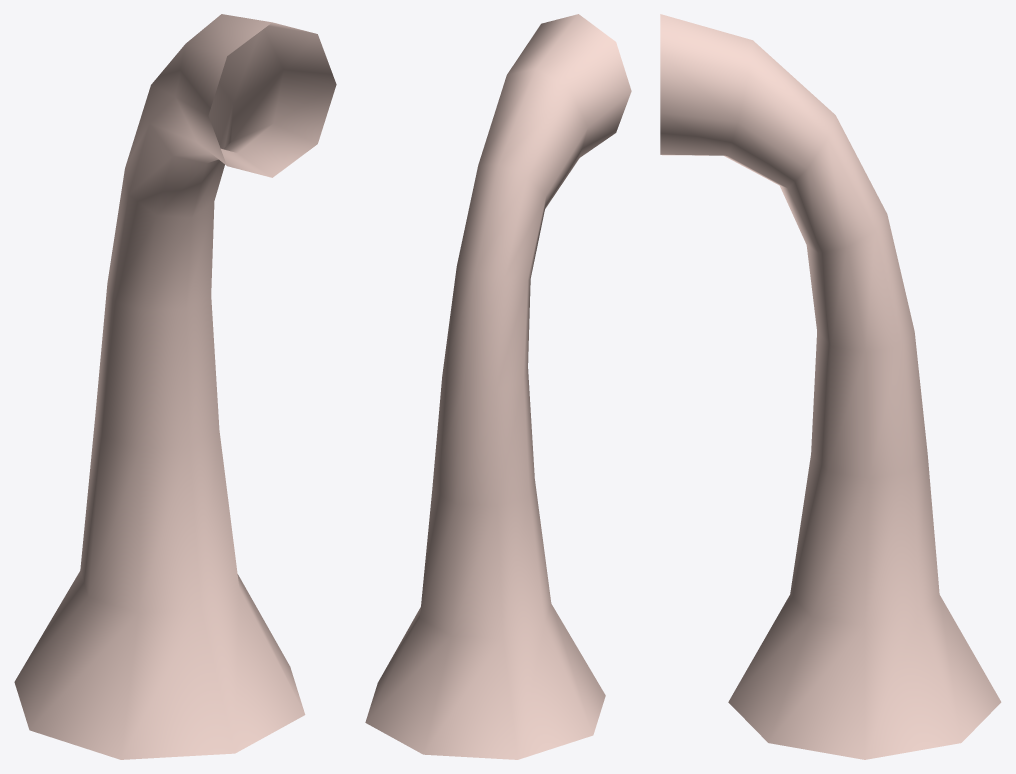
3 renders of one model, left to right at view 1: azimuth 30°, elevation 25°; view 2: azimuth 150°, elevation 25°; view 3: azimuth 270°, elevation 25°, orthographic. The views are drawn at different scales.
Parts seen in each view (by area): view 1: Object74; view 2: Object74; view 3: Object74.
Part boxes in pixels (x1=…): Object74: x1=14, y1=14, x2=336, y2=759; Object74: x1=365, y1=14, x2=631, y2=759; Object74: x1=660, y1=14, x2=1001, y2=759.
Size of the model in its own units: 82.5 by 229 by 103.
